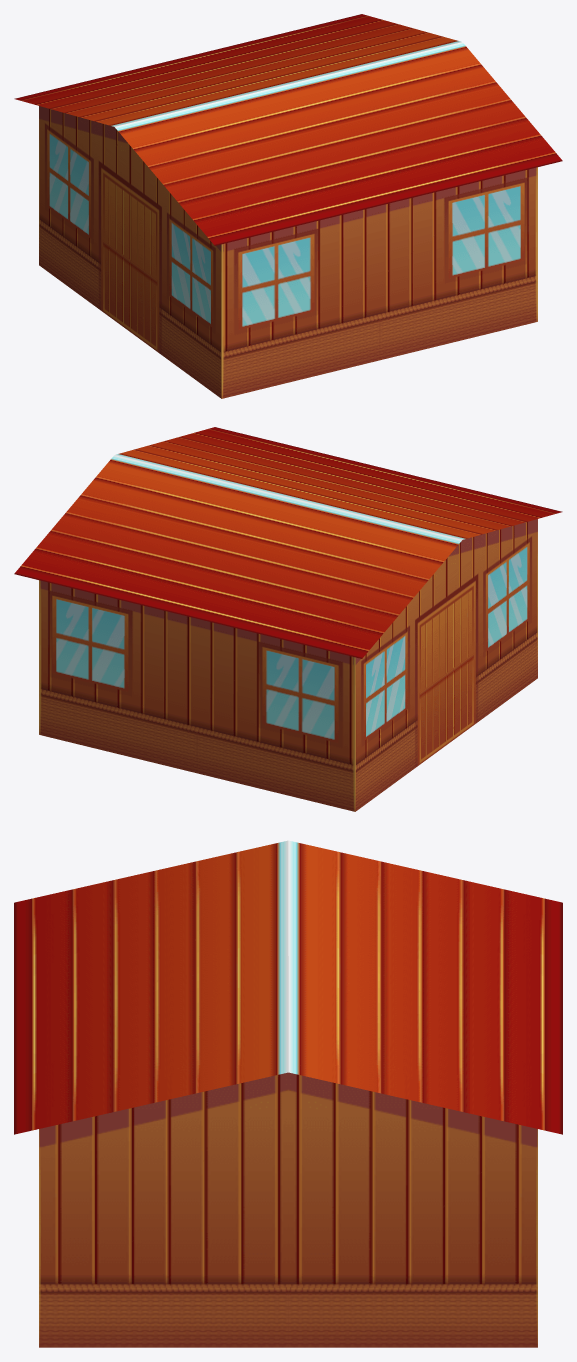
File: Envi_Rumah.fbx
3 renders of one model, top to bottom at view 1: azimuth 30°, elevation 25°; view 2: azimuth 150°, elevation 25°; view 3: azimuth 270°, elevation 25°, orthographic. The views are drawn at different scales.
Parts seen in each view (by area): view 1: Envi_Rumah; view 2: Envi_Rumah; view 3: Envi_Rumah.
Part boxes in pixels (x1,y1,x2,y2): Envi_Rumah: (14, 14, 562, 398); Envi_Rumah: (14, 427, 562, 811); Envi_Rumah: (14, 840, 562, 1347).
Bounding box in the file's own units: 528 × 303 × 528.
Materials: 1 (1 with a texture image).
